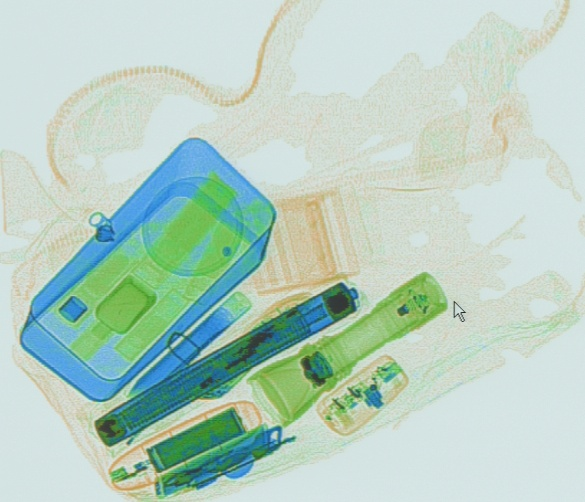nailpolish: (71, 270, 158, 363)
powerbank: (103, 395, 263, 490)
